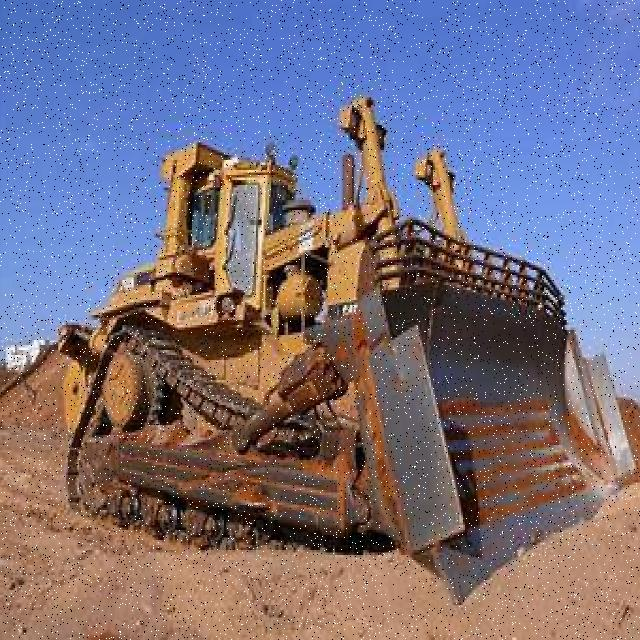Bulldozer: (45, 85, 640, 627)
